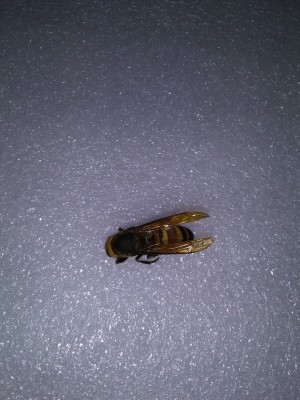asian_giant_hornet: (102, 210, 212, 270)
